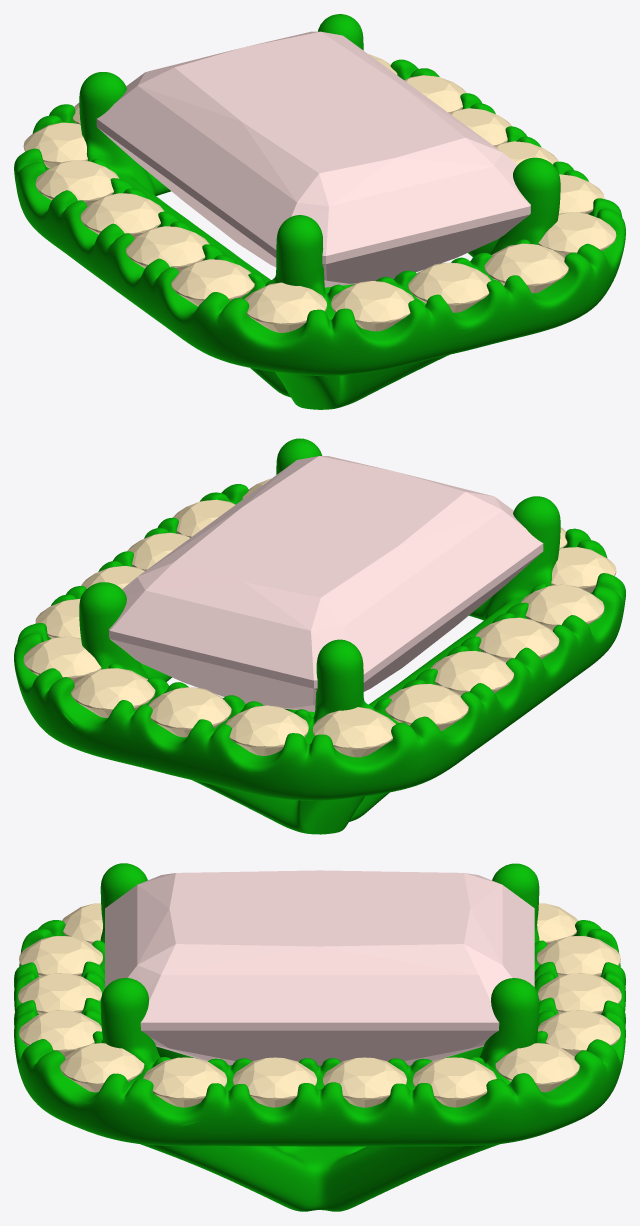
3 renders of one model, top to bottom at view 1: azimuth 30°, elevation 25°; view 2: azimuth 150°, elevation 25°; view 3: azimuth 270°, elevation 25°, orthographic.
Parts seen in each view (by area): view 1: Diamond_Radiant, Metal01, Diamond_Round.002, Diamond_Round.003, Diamond_Round.004, Diamond_Round.005, Diamond_Round.001, Diamond_Round, Diamond_Round.017, Diamond_Round.016, Diamond_Round.006, Diamond_Round.015 (+4 smaller); view 2: Diamond_Radiant, Metal01, Diamond_Round.015, Diamond_Round.014, Diamond_Round.013, Diamond_Round.012, Diamond_Round.016, Diamond_Round.017, Diamond_Round, Diamond_Round.001, Diamond_Round.011, Diamond_Round.002 (+4 smaller); view 3: Diamond_Radiant, Metal01, Diamond_Round.007, Diamond_Round.010, Diamond_Round.008, Diamond_Round.009, Diamond_Round.006, Diamond_Round.011, Diamond_Round.005, Diamond_Round.012, Diamond_Round.013, Diamond_Round.004 (+4 smaller).
Part boxes in pixels (bbox=[...]): Diamond_Radiant: bbox=[96, 31, 530, 287]; Metal01: bbox=[14, 14, 625, 409]; Diamond_Round.002: bbox=[244, 282, 326, 332]; Diamond_Round.003: bbox=[331, 281, 414, 331]; Diamond_Round.004: bbox=[408, 262, 490, 312]; Diamond_Round.005: bbox=[484, 243, 568, 293]; Diamond_Round.001: bbox=[171, 259, 254, 306]; Diamond_Round: bbox=[126, 226, 209, 270]; Diamond_Round.017: bbox=[80, 193, 164, 237]; Diamond_Round.016: bbox=[35, 160, 119, 205]; Diamond_Round.006: bbox=[538, 212, 616, 258]; Diamond_Round.015: bbox=[23, 122, 87, 168]; Diamond_Radiant: bbox=[109, 456, 543, 711]; Metal01: bbox=[14, 438, 625, 834]; Diamond_Round.015: bbox=[313, 707, 395, 757]; Diamond_Round.014: bbox=[225, 705, 308, 755]; Diamond_Round.013: bbox=[148, 687, 231, 737]; Diamond_Round.012: bbox=[71, 668, 155, 717]; Diamond_Round.016: bbox=[385, 684, 468, 731]; Diamond_Round.017: bbox=[430, 650, 513, 695]; Diamond_Round: bbox=[475, 617, 559, 662]; Diamond_Round.001: bbox=[521, 584, 604, 630]; Diamond_Round.011: bbox=[23, 636, 101, 683]; Diamond_Round.002: bbox=[551, 547, 616, 592]; Diamond_Radiant: bbox=[105, 870, 534, 1065]; Metal01: bbox=[14, 863, 625, 1211]; Diamond_Round.007: bbox=[143, 1057, 226, 1107]; Diamond_Round.010: bbox=[413, 1057, 496, 1107]; Diamond_Round.008: bbox=[233, 1057, 316, 1107]; Diamond_Round.009: bbox=[323, 1057, 406, 1107]; Diamond_Round.006: bbox=[60, 1043, 144, 1092]; Diamond_Round.011: bbox=[495, 1043, 579, 1092]; Diamond_Round.005: bbox=[19, 1010, 101, 1056]; Diamond_Round.012: bbox=[538, 1010, 620, 1056]; Diamond_Round.013: bbox=[538, 973, 621, 1014]; Diamond_Round.004: bbox=[18, 973, 101, 1014].
Bounding box in the file's own units: 9.96 × 6.54 × 12.39.
